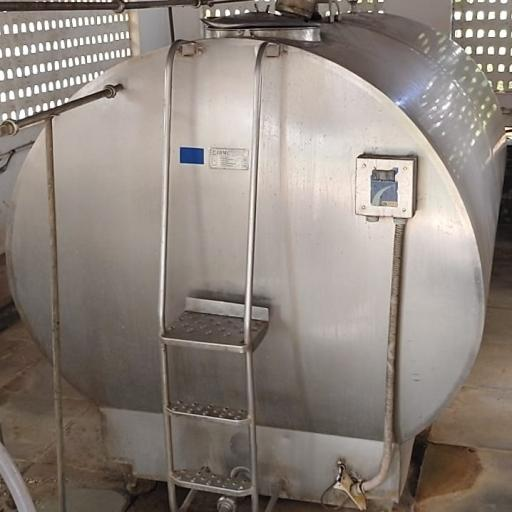silo: (6, 9, 511, 504)
